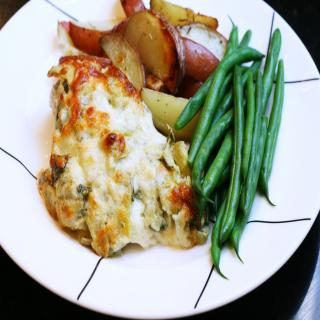Potato: (140, 87, 202, 142)
